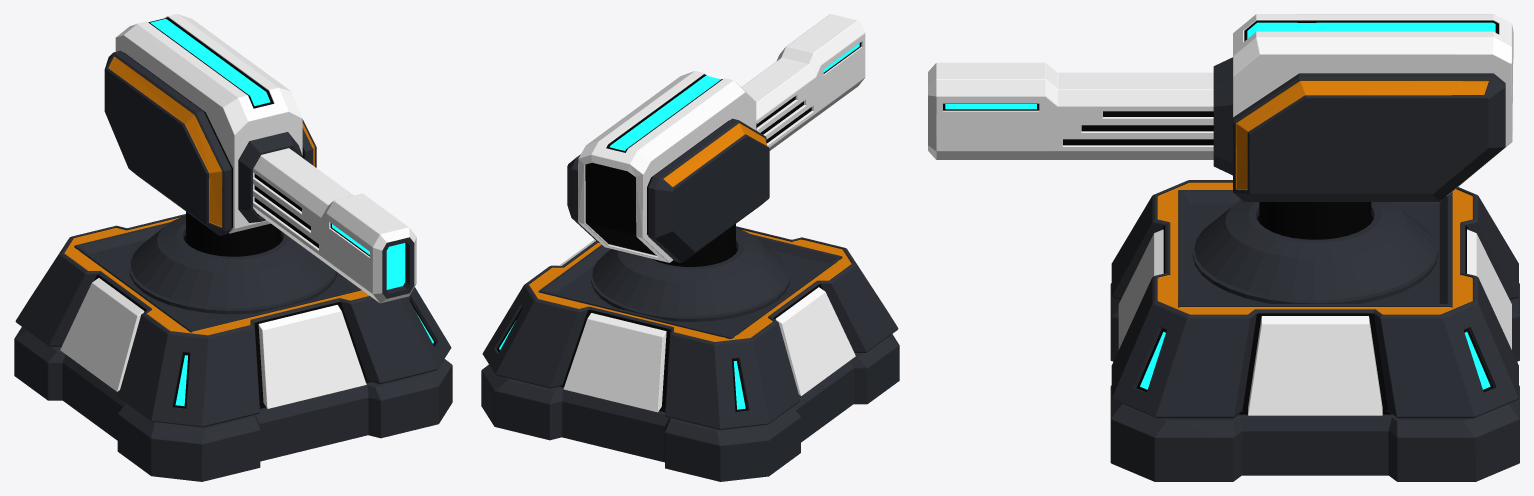
File: SM_Railgun_Turret.fbx
The picture shows the model from 3 angles, left to right: view 1: azimuth 30°, elevation 25°; view 2: azimuth 150°, elevation 25°; view 3: azimuth 270°, elevation 25°; orthographic projection. The views are drawn at different scales.
Visible parts, largest first — view 1: SM_Railgun_Turret_Base, SM_Railgun_Turret_Rotating_Head; view 2: SM_Railgun_Turret_Base, SM_Railgun_Turret_Rotating_Head; view 3: SM_Railgun_Turret_Rotating_Head, SM_Railgun_Turret_Base.
Boxes of the visible parts, x1,y1,x2,y2 form: SM_Railgun_Turret_Base: (14, 214, 452, 481); SM_Railgun_Turret_Rotating_Head: (104, 14, 416, 314); SM_Railgun_Turret_Base: (481, 226, 899, 481); SM_Railgun_Turret_Rotating_Head: (567, 14, 865, 321); SM_Railgun_Turret_Rotating_Head: (928, 14, 1513, 303); SM_Railgun_Turret_Base: (1110, 180, 1519, 481).
Size of the model in its own units: 100 by 99.83 by 145.
